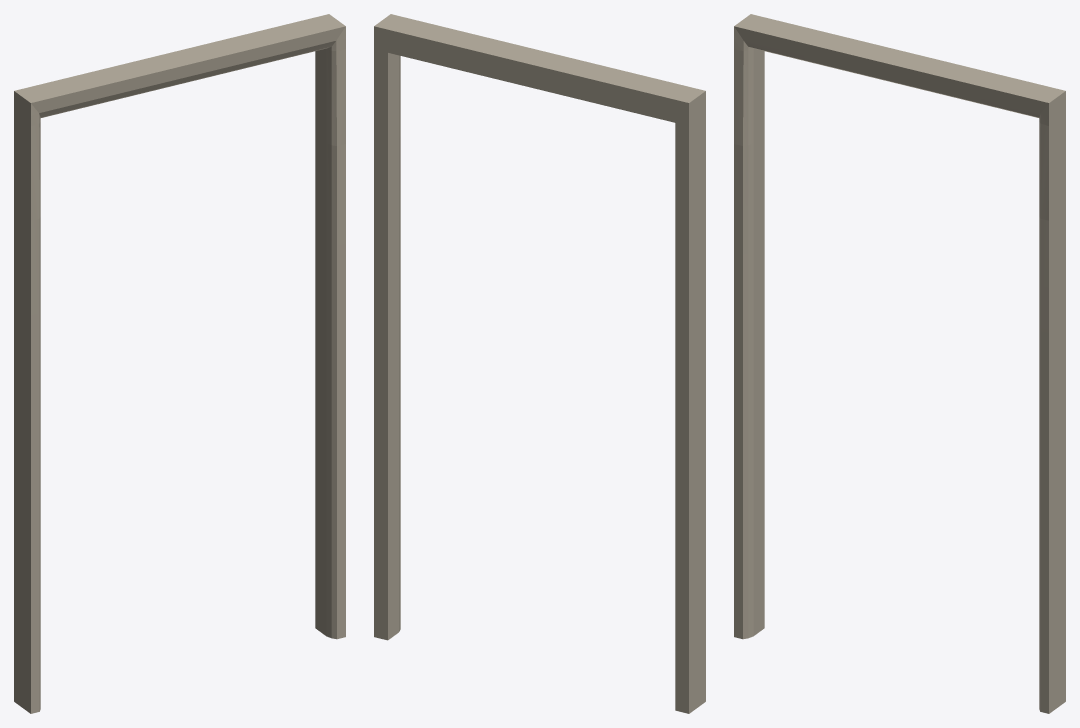
Rendered from Doorframe.fbx.
The picture shows the model from 3 angles, left to right: view 1: azimuth 30°, elevation 25°; view 2: azimuth 150°, elevation 25°; view 3: azimuth 330°, elevation 25°; orthographic projection.
Parts seen in each view (by area): view 1: Single_Doorframe.003; view 2: Single_Doorframe.003; view 3: Single_Doorframe.003.
Part boxes in pixels (<box>): Single_Doorframe.003: <box>14,14,345,713</box>; Single_Doorframe.003: <box>374,14,705,713</box>; Single_Doorframe.003: <box>734,14,1065,713</box>.
Bounding box in the file's own units: 135 × 250 × 12.44.
